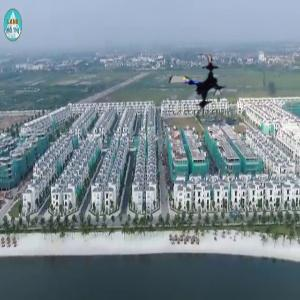drone: (164, 53, 232, 121)
